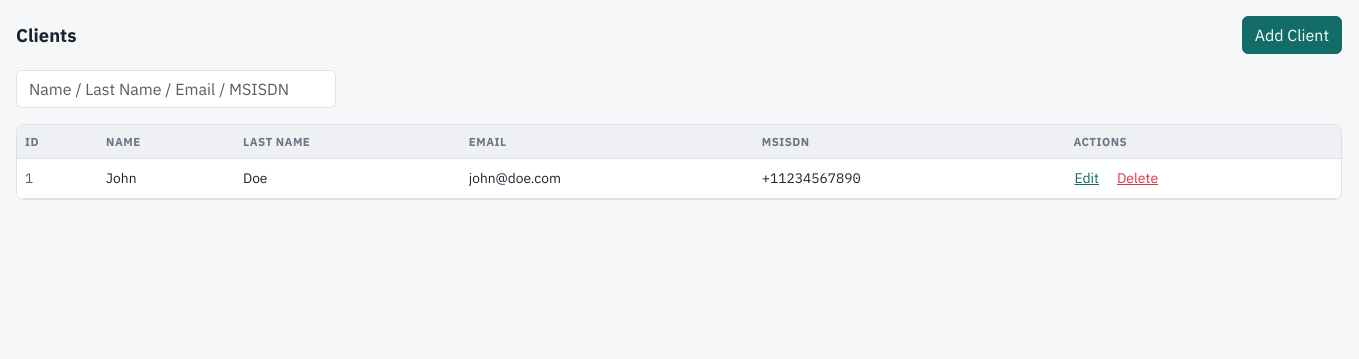
Test: clicking Edit shows a form pre-filled with that client's data
Check: the text "John" is shown, box [98,159,235,199]
Step 1. Click the button "Edit" → (1087, 179), box [1073,167,1100,190]
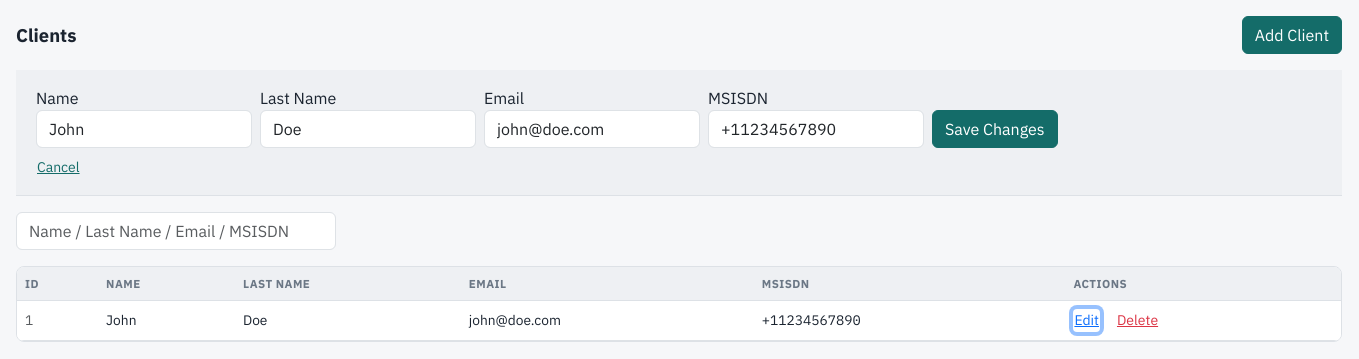
Check: the field labelled "Name" holds "John", box [36,110,252,148]
Check: the button "Save Changes" is shown, box [932,110,1058,148]
